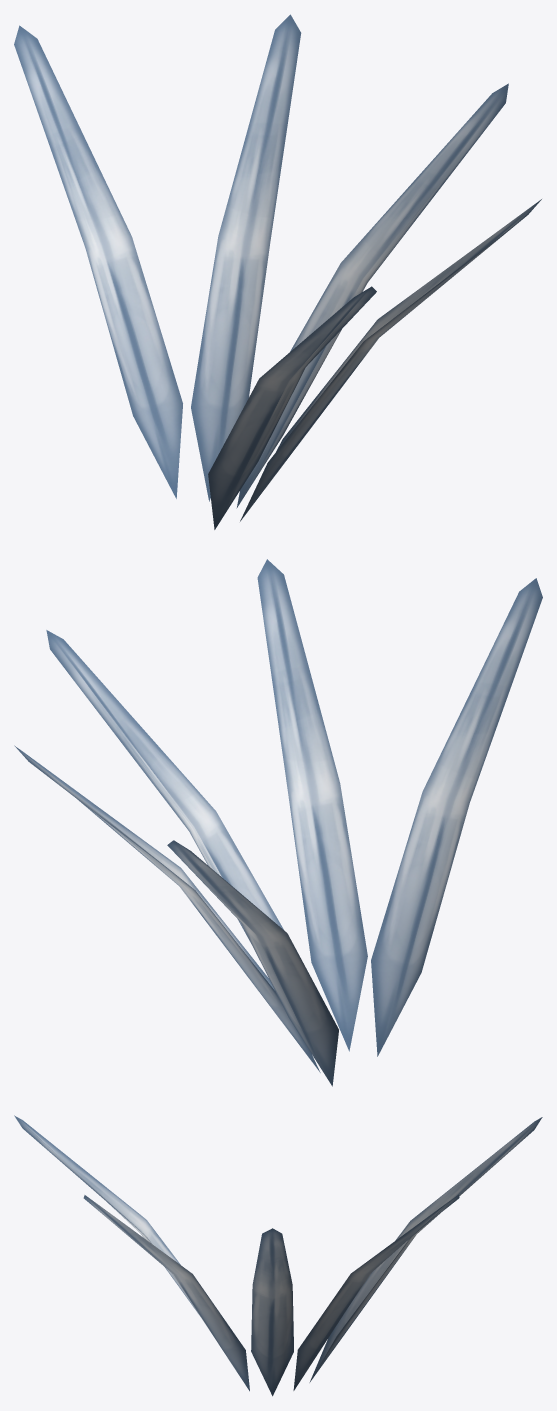
Rendered from grasswithtexture.fbx.
3 views of the same model, one above another, from view 1: azimuth 30°, elevation 25°; view 2: azimuth 150°, elevation 25°; view 3: azimuth 270°, elevation 25° (orthographic). The views are drawn at different scales.
Parts seen in each view (by area): view 1: pPlane1; view 2: pPlane1; view 3: pPlane1.
Boxes of the visible parts, box(x1,y1,x2,y2) form: pPlane1: box(14, 14, 541, 529); pPlane1: box(14, 559, 542, 1086); pPlane1: box(14, 1115, 542, 1396).
Bounding box in the file's own units: 6.5 × 6.65 × 11.92.
Materials: 1 (1 with a texture image).
